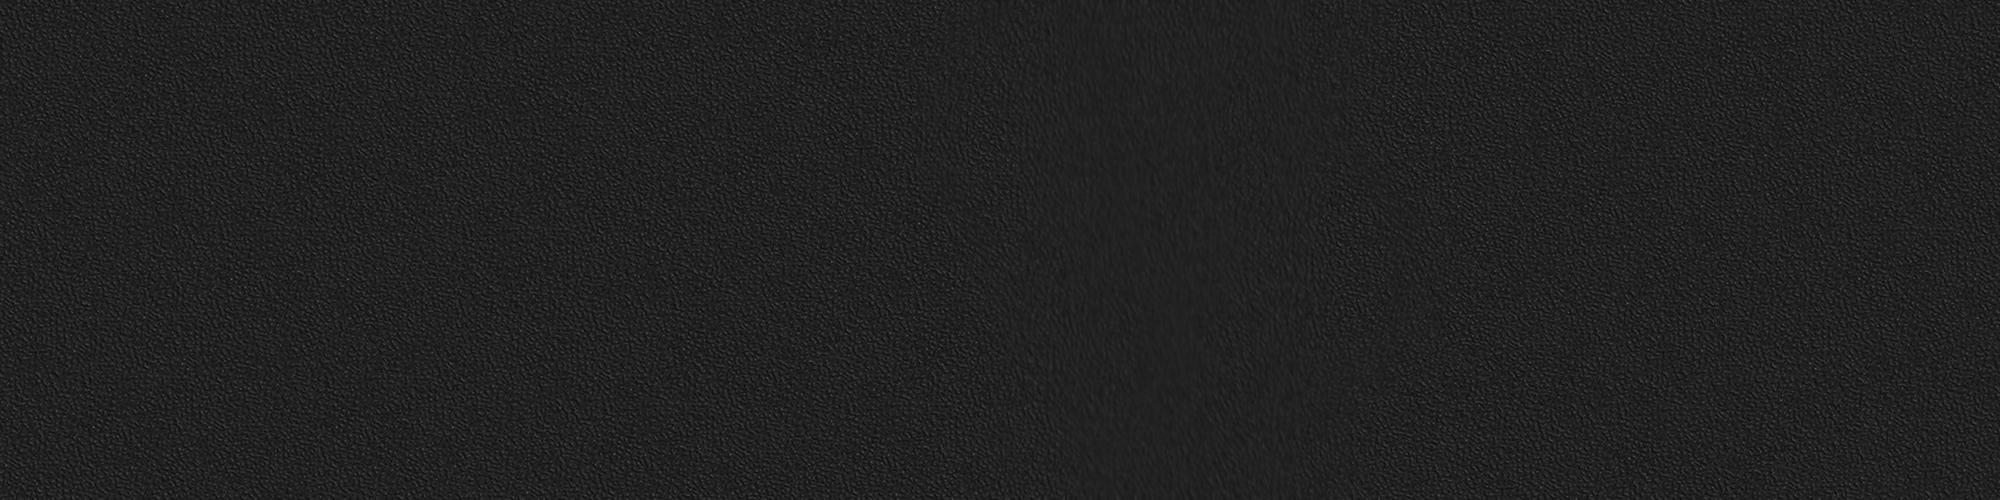Flow_Lines: (1060, 48, 1256, 494)
